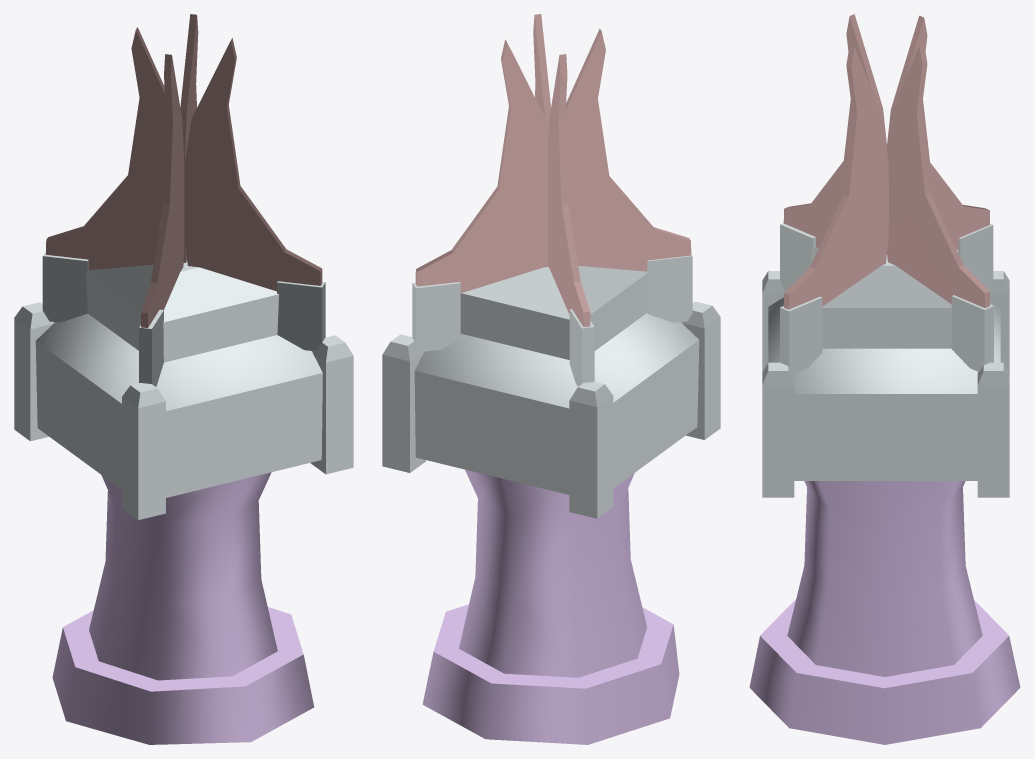
3 renders of one model, left to right at view 1: azimuth 30°, elevation 25°; view 2: azimuth 150°, elevation 25°; view 3: azimuth 270°, elevation 25°, orthographic.
Visible parts, largest first — view 1: Object42; view 2: Object42; view 3: Object42.
Part boxes in pixels (box(x1,y1,x2,y2)): Object42: box(14, 14, 353, 744); Object42: box(382, 14, 720, 744); Object42: box(749, 14, 1020, 744).
Size of the model in its own units: 121 by 325 by 121.
